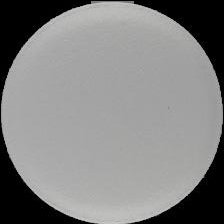54868-4171: (0, 0, 224, 224)
